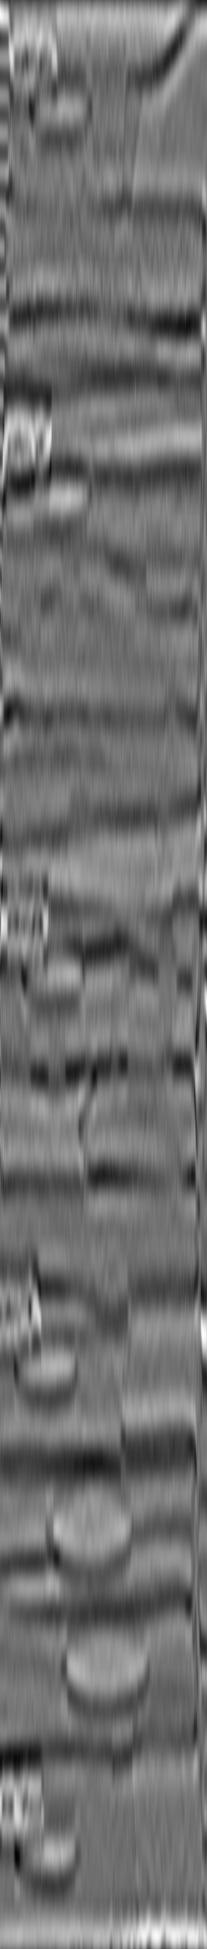hplug: (19, 459, 100, 531), (7, 1331, 84, 1403), (10, 1821, 86, 1889), (16, 938, 86, 1011), (26, 71, 98, 139)
vplug: (102, 1733, 192, 1942), (98, 902, 183, 1063), (114, 58, 196, 219), (117, 1286, 190, 1451)
